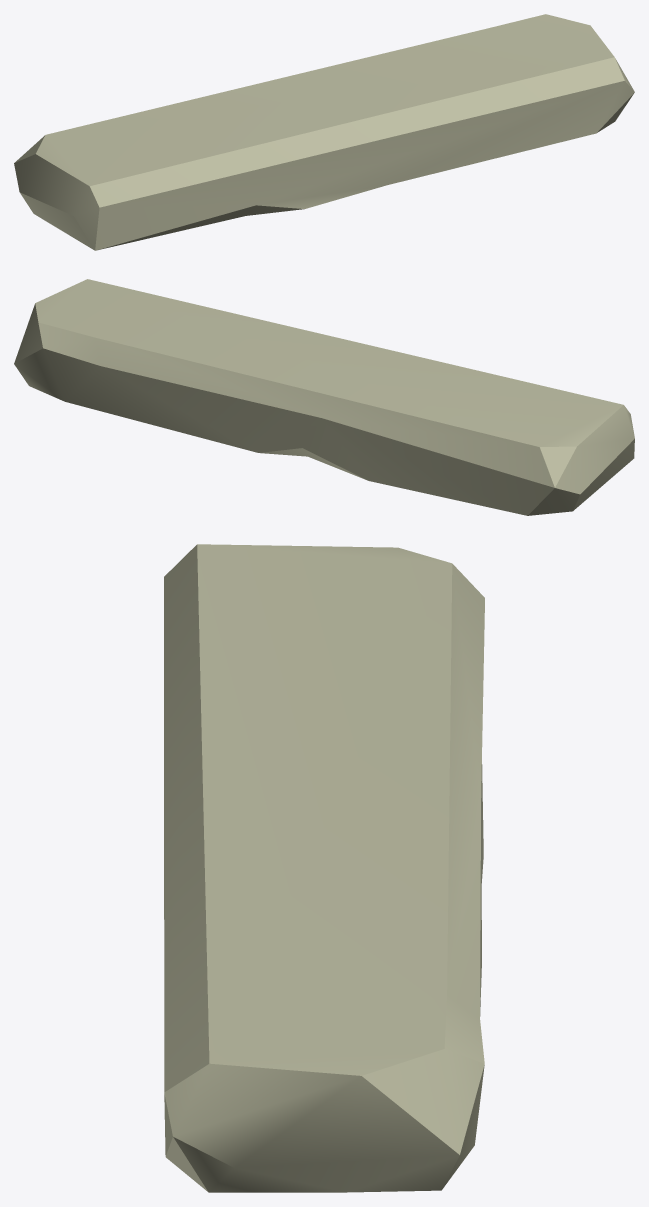
File: SM_rocktile002.fbx
3 renders of one model, top to bottom at view 1: azimuth 30°, elevation 25°; view 2: azimuth 150°, elevation 25°; view 3: azimuth 270°, elevation 25°, orthographic. The views are drawn at different scales.
Visible parts, largest first — view 1: SM_rocktile002; view 2: SM_rocktile002; view 3: SM_rocktile002.
Boxes of the visible parts, x1,y1,x2,y2 form: SM_rocktile002: (14, 14, 634, 250); SM_rocktile002: (14, 279, 634, 515); SM_rocktile002: (164, 544, 484, 1192).
Size of the model in its own units: 100 by 11.68 by 25.11.
